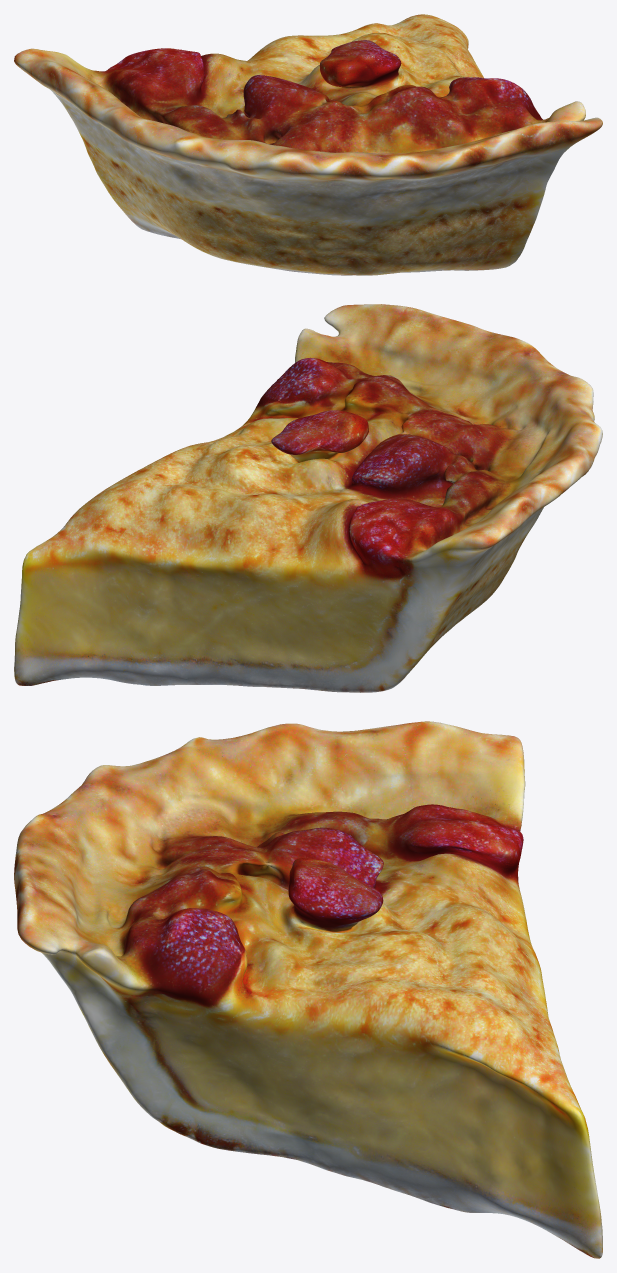
Rendered from pie.glb.
The picture shows the model from 3 angles, top to bottom: view 1: azimuth 30°, elevation 25°; view 2: azimuth 150°, elevation 25°; view 3: azimuth 270°, elevation 25°; orthographic projection. The views are drawn at different scales.
Visible parts, largest first — view 1: model; view 2: model; view 3: model.
Part boxes in pixels (x1,y1,x2,y2): model: (14,14,602,275); model: (14,304,602,692); model: (14,721,602,1258).
Size of the model in its own units: 1.44 by 0.7476 by 1.39.
1 material, 1 textured.
